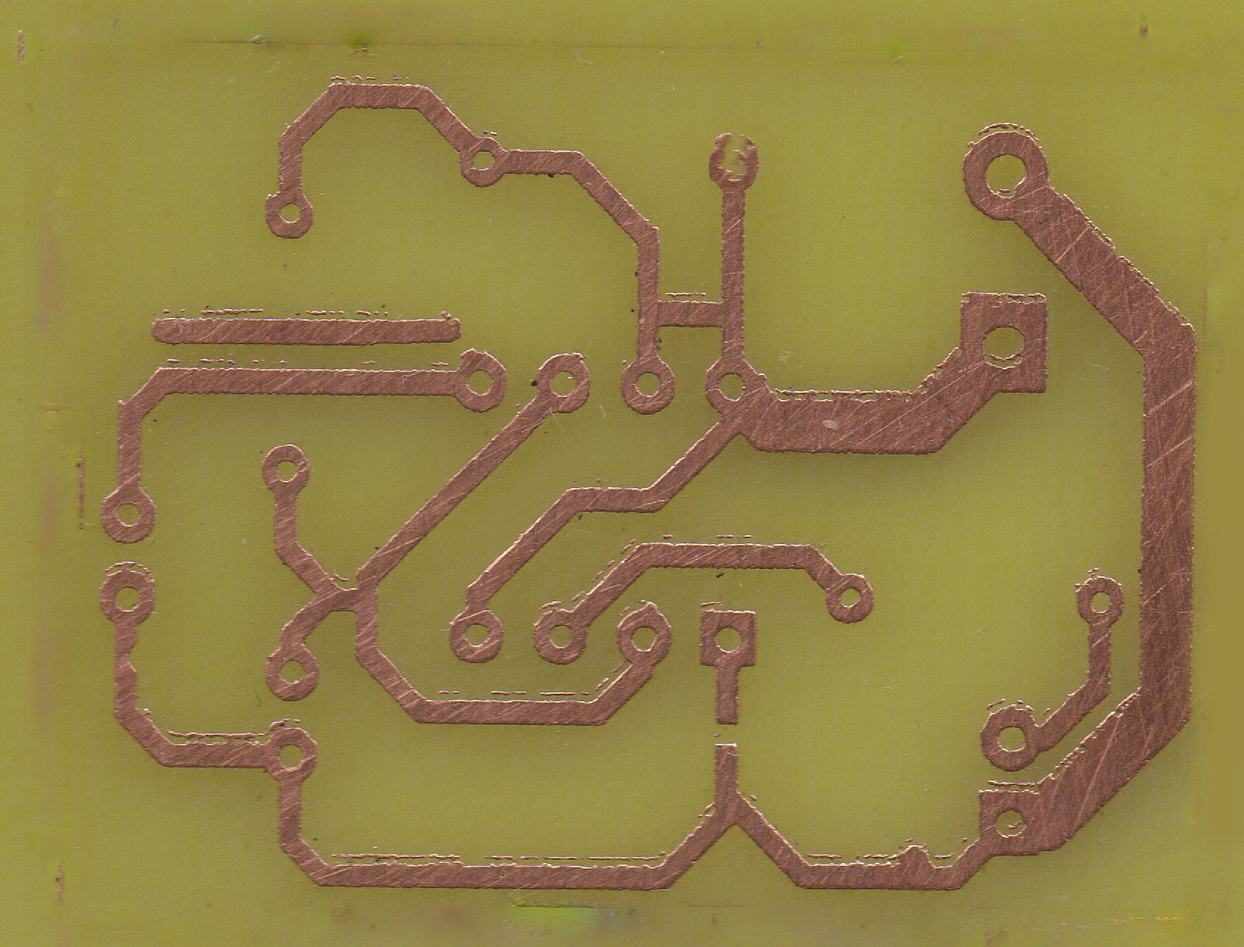missing_hole: (700, 126, 762, 193)
mouse_bite: (101, 629, 145, 685)
open_circuit: (701, 706, 747, 766)
short: (635, 280, 743, 340)
spur: (885, 843, 941, 897)
spurious_copper: (141, 304, 466, 359)
